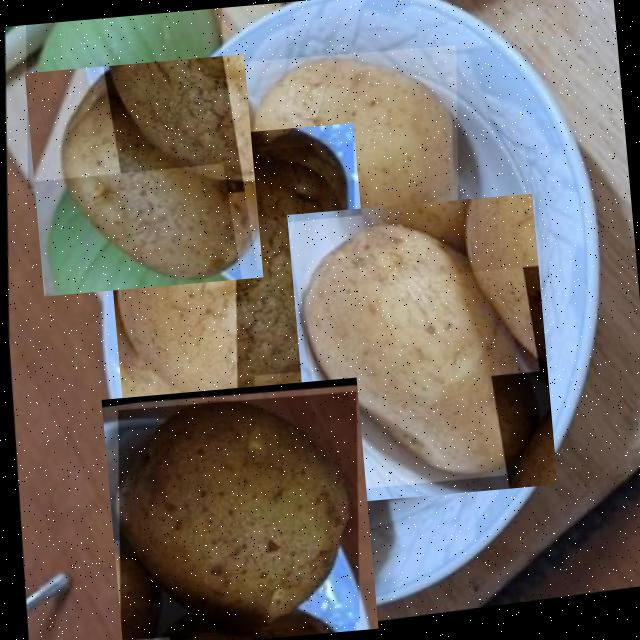Damaged potato: (98, 122, 376, 426), (100, 377, 377, 640), (23, 54, 262, 296)
Potato: (286, 194, 556, 506), (218, 38, 474, 304)
